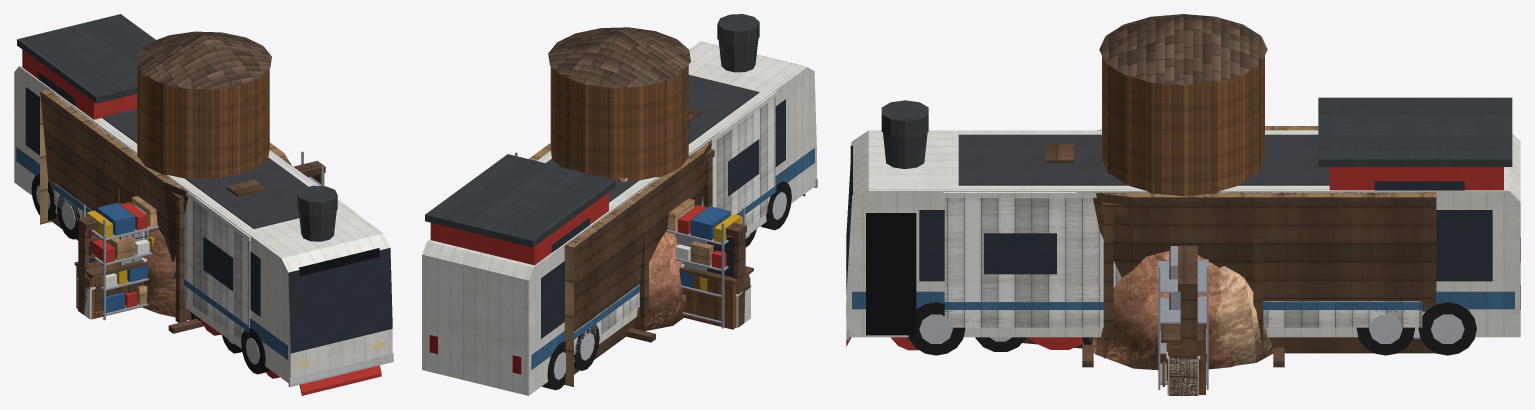
Rendered from lot-9-props.glb.
3 renders of one model, left to right at view 1: azimuth 30°, elevation 25°; view 2: azimuth 150°, elevation 25°; view 3: azimuth 270°, elevation 25°, orthographic. The views are drawn at different scales.
Visible parts, largest first — view 1: bus_body, water-tower_tank, prow_hull, loco_body, trailer_body, water-tower_cap, bus_roof, rack_stuff, loco_trim, bus_trim, fake-boulder_rock, back-bar_cabinet (+9 smaller); view 2: bus_body, loco_body, water-tower_tank, prow_hull, water-tower_cap, trailer_body, rack_stuff, bus_roof, fake-boulder_rock, loco_trim, bus_glass, bar-long_body (+10 smaller); view 3: prow_hull, bus_body, trailer_body, water-tower_tank, loco_body, bus_roof, fake-boulder_rock, water-tower_cap, bus_trim, bus_glass, bus_wheels, back-bar_cabinet (+10 smaller).
Part boxes in pixels (bbox=[...]): bus_body: bbox=[14, 65, 392, 384]; water-tower_tank: bbox=[137, 67, 269, 178]; prow_hull: bbox=[40, 89, 291, 319]; loco_body: bbox=[17, 14, 155, 119]; trailer_body: bbox=[53, 93, 354, 340]; water-tower_cap: bbox=[135, 31, 271, 89]; bus_roof: bbox=[102, 108, 308, 228]; rack_stuff: bbox=[86, 196, 157, 313]; loco_trim: bbox=[297, 185, 381, 395]; bus_trim: bbox=[16, 147, 393, 386]; fake-boulder_rock: bbox=[142, 228, 191, 320]; back-bar_cabinet: bbox=[78, 160, 325, 314]; bus_body: bbox=[422, 41, 816, 395]; loco_body: bbox=[425, 154, 615, 265]; water-tower_tank: bbox=[550, 65, 688, 180]; prow_hull: bbox=[529, 139, 711, 386]; water-tower_cap: bbox=[548, 27, 690, 87]; trailer_body: bbox=[574, 91, 776, 354]; rack_stuff: bbox=[667, 198, 741, 307]; bus_roof: bbox=[546, 75, 759, 202]; fake-boulder_rock: bbox=[632, 231, 683, 330]; loco_trim: bbox=[717, 14, 805, 196]; bus_glass: bbox=[541, 99, 785, 338]; bar-long_body: bbox=[682, 274, 749, 329]; prow_hull: bbox=[1022, 126, 1436, 353]; bus_body: bbox=[846, 130, 1520, 337]; trailer_body: bbox=[943, 192, 1423, 327]; water-tower_tank: bbox=[1102, 56, 1264, 195]; loco_body: bbox=[1318, 97, 1512, 190]; bus_roof: bbox=[958, 134, 1329, 185]; fake-boulder_rock: bbox=[1092, 250, 1273, 370]; water-tower_cap: bbox=[1099, 14, 1267, 85]; bus_trim: bbox=[846, 145, 1520, 340]; bus_glass: bbox=[919, 210, 1492, 281]; bus_wheels: bbox=[908, 302, 1476, 355]; back-bar_cabinet: bbox=[1169, 246, 1197, 395].
Size of the model in its own units: 6 by 6.07 by 12.01.
Materials: 55 (55 with a texture image).
